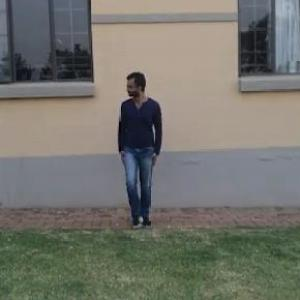follow: (116, 70, 161, 224)
